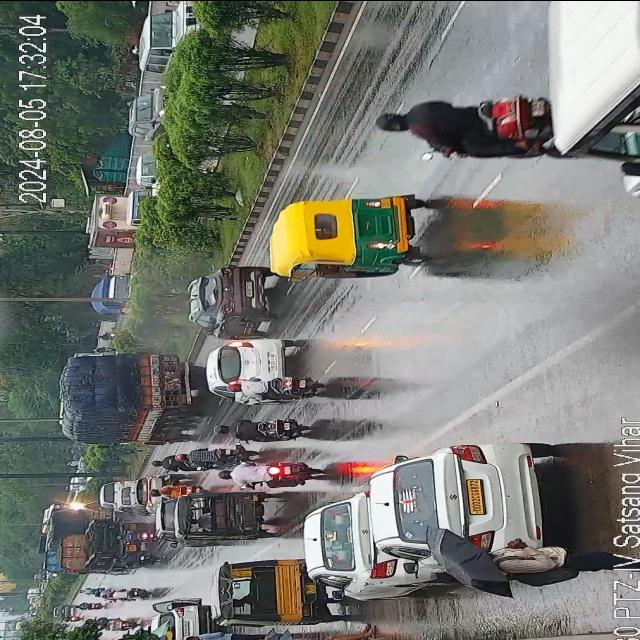2-wheelers: (376, 93, 554, 166), (231, 371, 321, 398), (213, 415, 299, 443), (218, 464, 324, 486), (172, 441, 248, 469), (151, 480, 200, 498), (107, 550, 160, 566), (51, 599, 78, 625), (110, 530, 152, 542), (148, 461, 206, 469)
auto: (261, 185, 425, 287), (216, 554, 332, 626), (166, 486, 278, 546), (98, 478, 136, 514)
bus: (545, 0, 640, 169)
car: (378, 442, 546, 570), (304, 494, 409, 597), (190, 261, 272, 335), (134, 1, 197, 76), (152, 593, 207, 640), (124, 86, 162, 136), (134, 150, 162, 193)
pedestrian: (472, 537, 604, 581), (292, 621, 380, 640), (180, 625, 260, 640)
truck: (56, 344, 204, 441)
